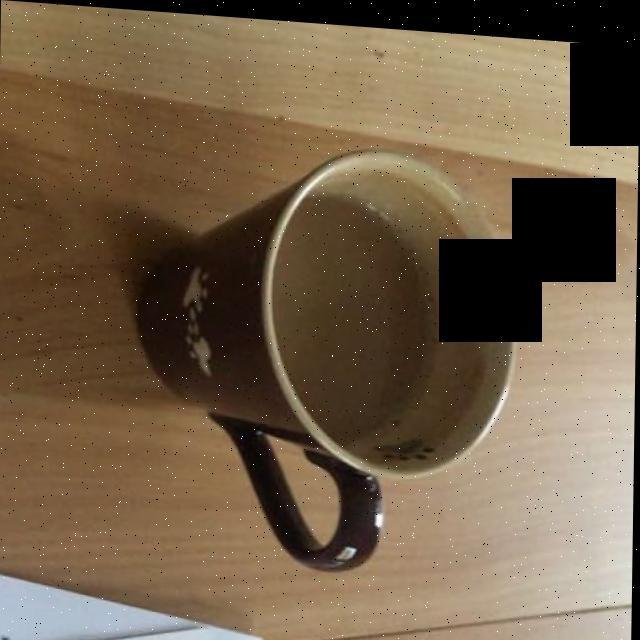coffee: (280, 183, 442, 439)
